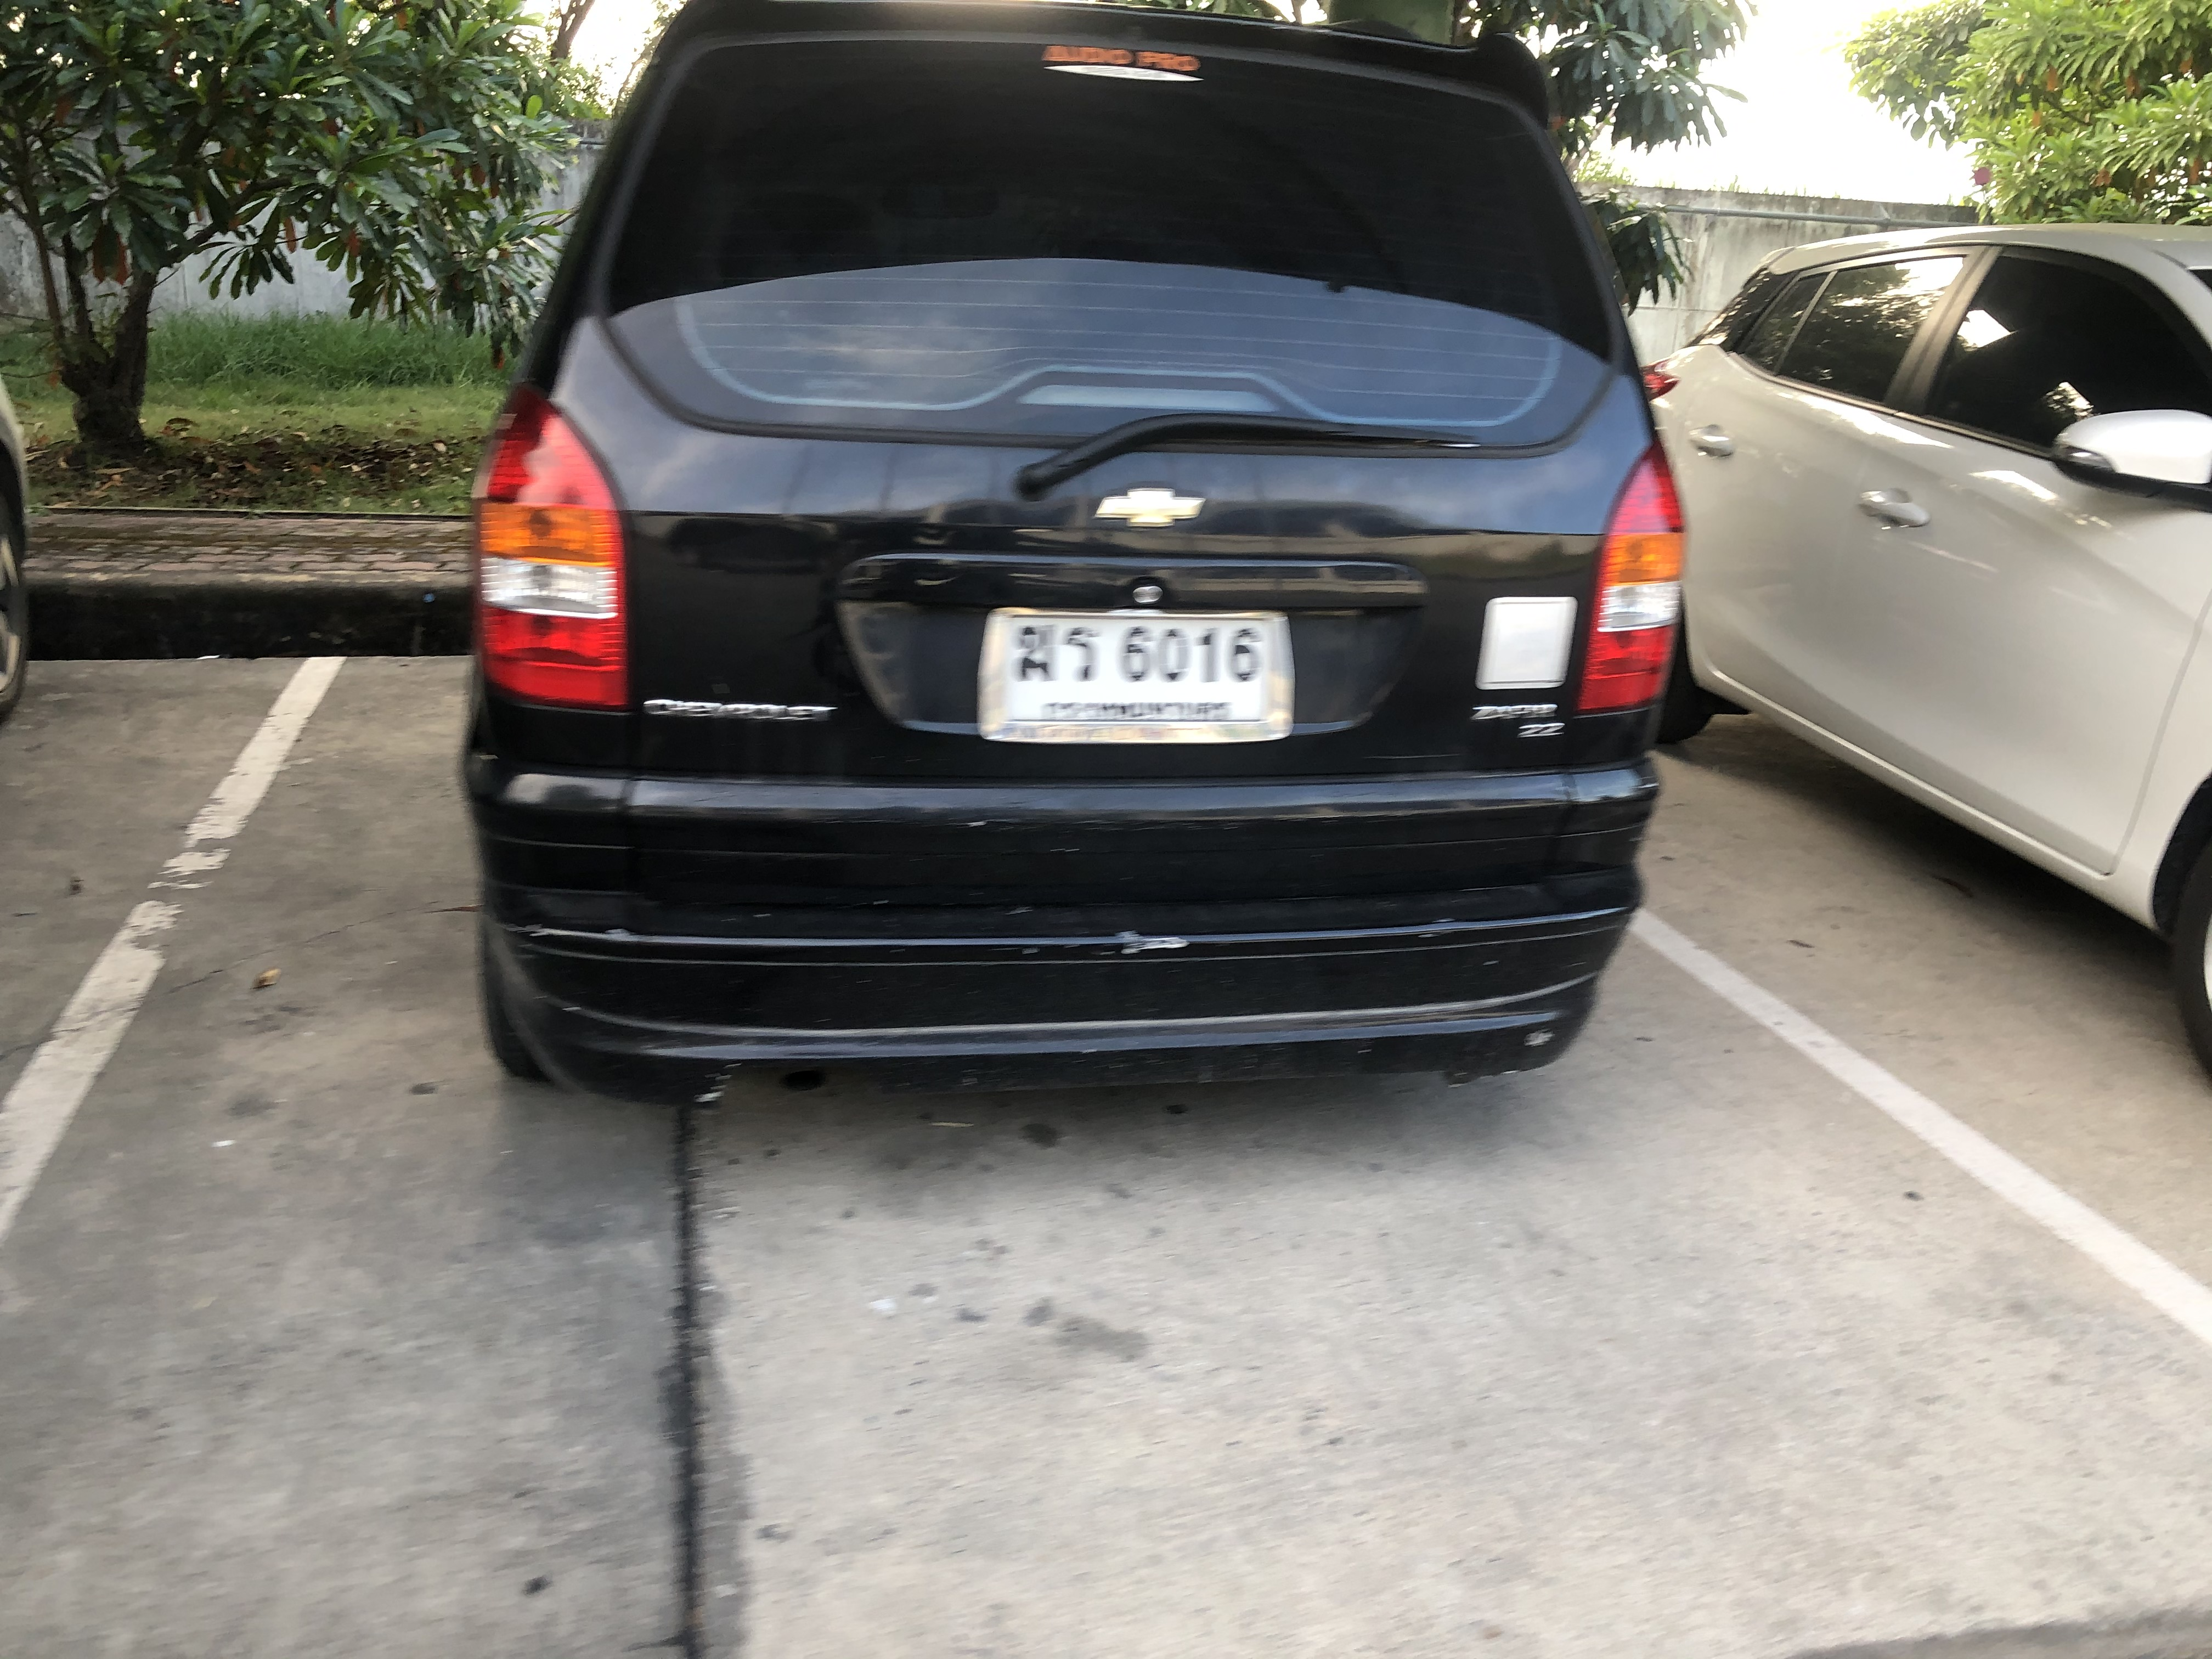in: (1008, 619, 1275, 728)
out: (977, 598, 1299, 755)
